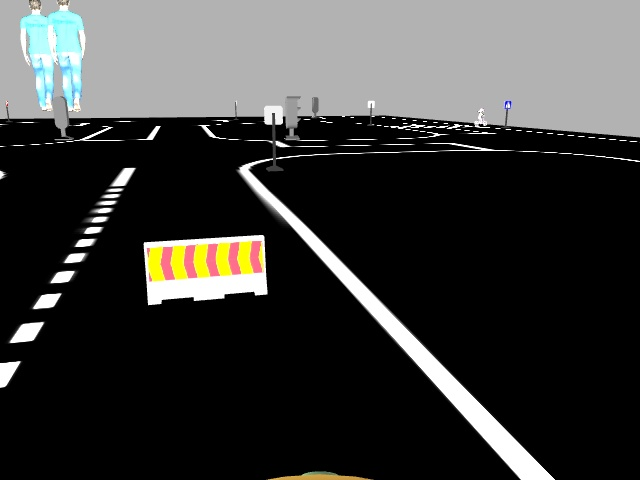ClosedRoadStand: (145, 242, 266, 292)
